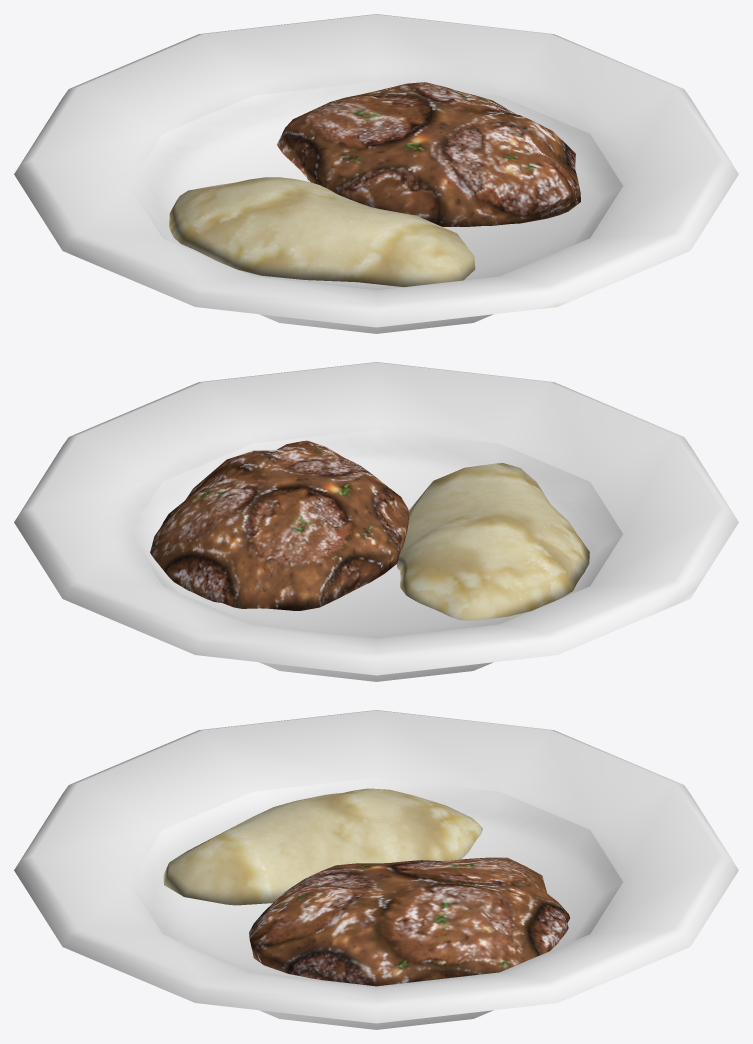
The model's file is VFX_PlateFullTwo.fbx.
The picture shows the model from 3 angles, top to bottom: view 1: azimuth 30°, elevation 25°; view 2: azimuth 150°, elevation 25°; view 3: azimuth 270°, elevation 25°; orthographic projection.
Visible parts, largest first — view 1: Plate_FullTwo; view 2: Plate_FullTwo; view 3: Plate_FullTwo.
Part boxes in pixels (<box>): Plate_FullTwo: <box>14,14,738,333</box>; Plate_FullTwo: <box>14,362,738,681</box>; Plate_FullTwo: <box>14,710,738,1029</box>.
Bounding box in the file's own units: 0.1587 × 0.0261 × 0.1587.
